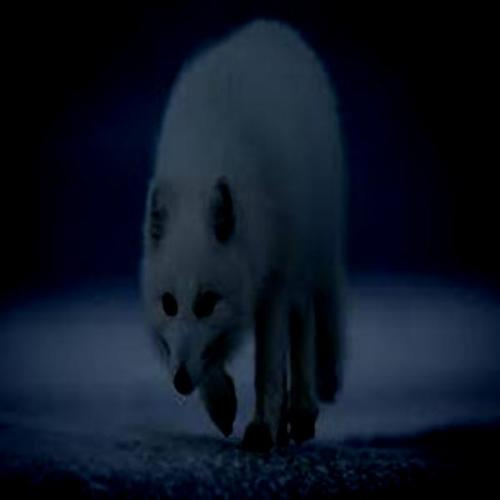arctic_fox-endangered: (140, 18, 348, 447)
